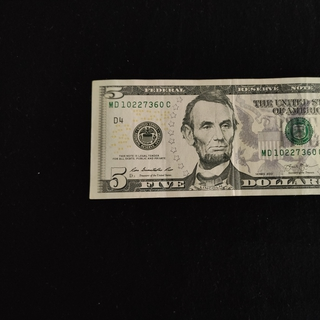5USDFront: (88, 76, 320, 201)
